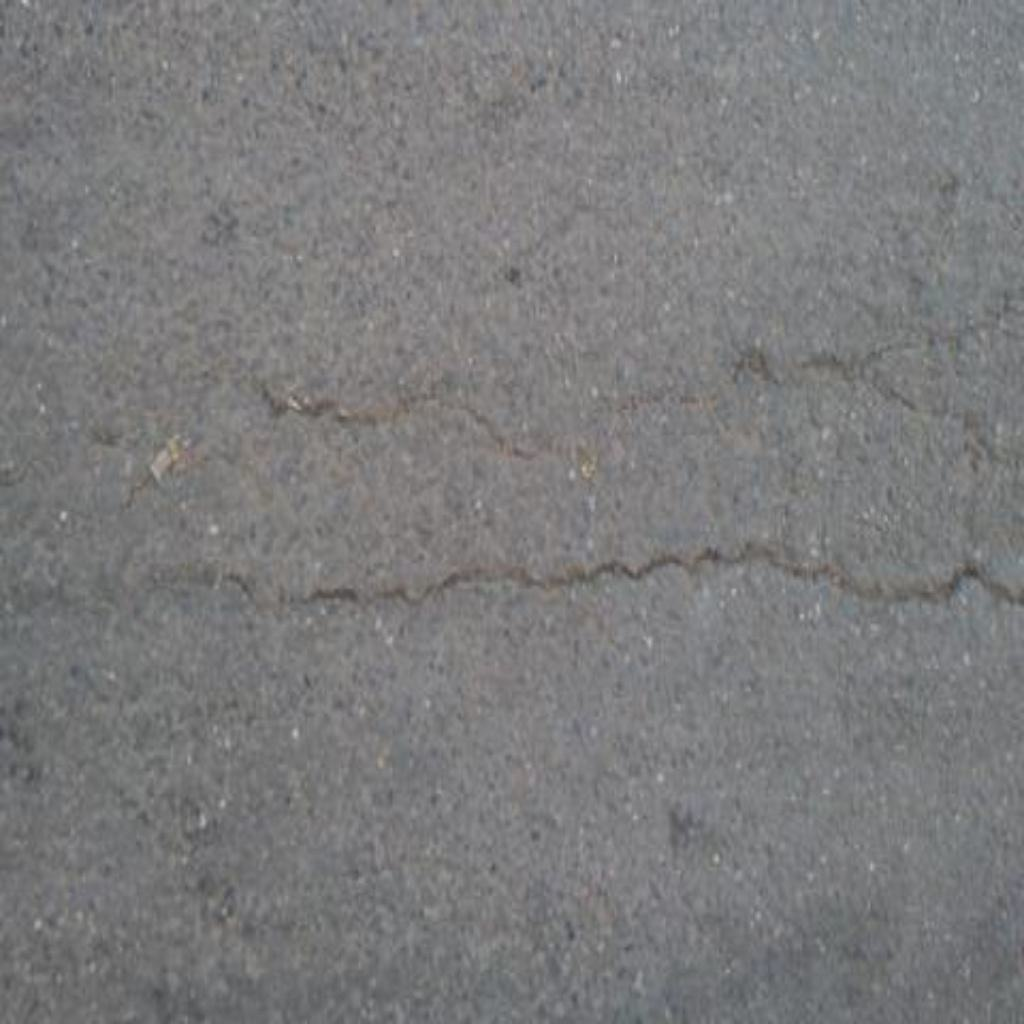Crack: (298, 537, 1024, 612)
